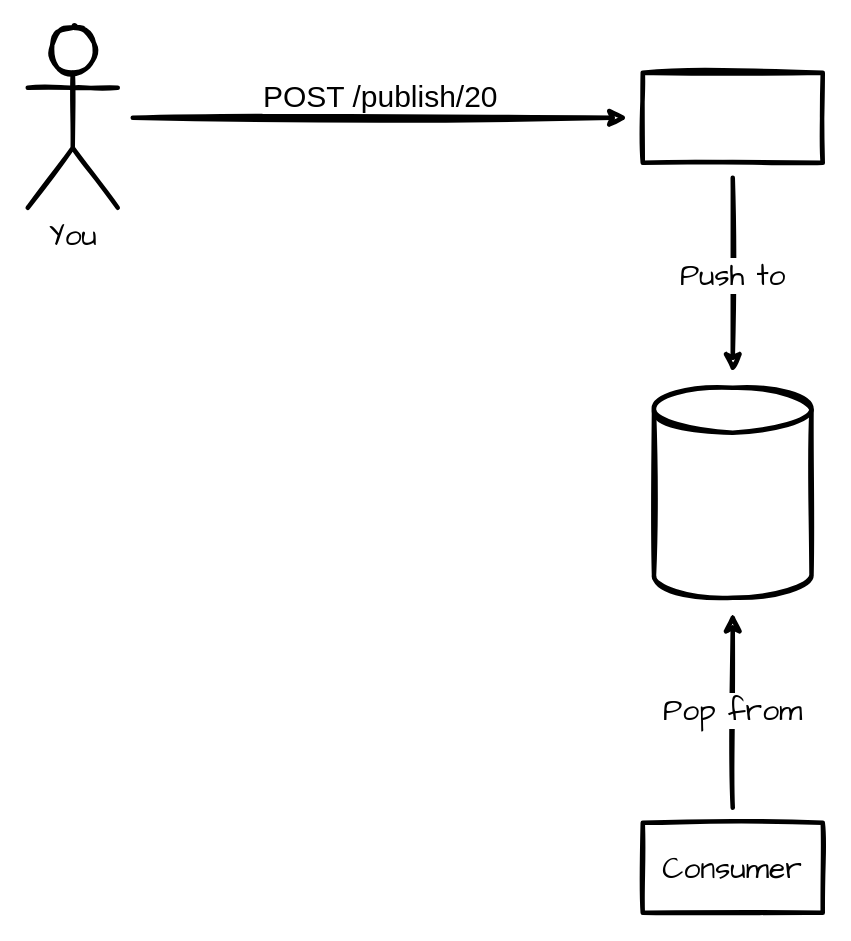
Image size: 851x941. Some labels were removed from this diagram. Each missing label, with the centre of its shape:
"Producer" goes at pixel 732 117.
"Redis queue" goes at pixel 732 492.
